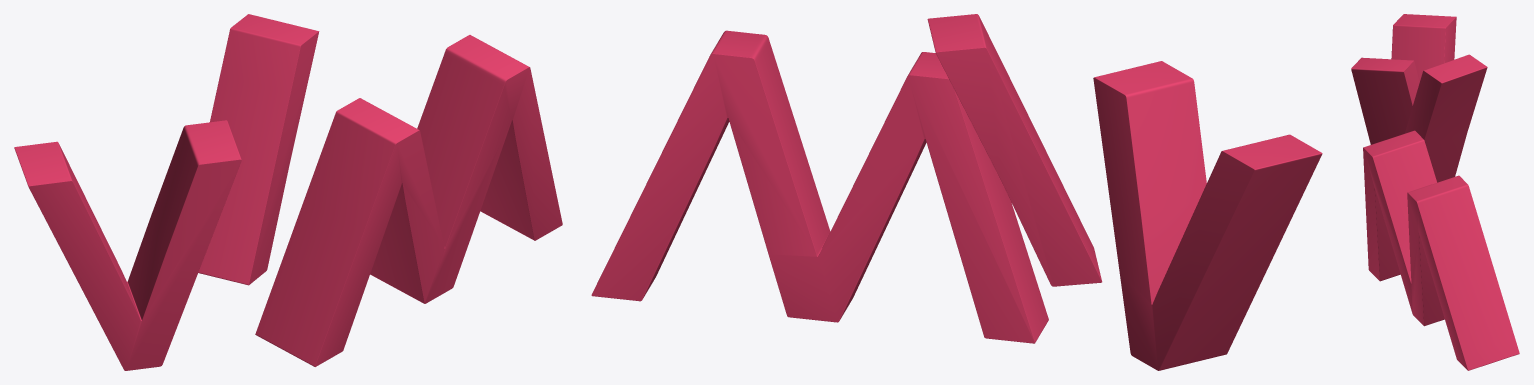
File: vim2.glb
3 views of the same model, side by side, from view 1: azimuth 30°, elevation 25°; view 2: azimuth 150°, elevation 25°; view 3: azimuth 270°, elevation 25° (orthographic). The views are drawn at different scales.
Visible parts, largest first — view 1: M, V, I; view 2: M, V, I; view 3: M, V, I.
Part boxes in pixels (box(x1,y1,x2,y2)): M: box(255, 35, 562, 366); V: box(14, 120, 241, 370); I: box(198, 14, 319, 285); M: box(591, 30, 1048, 343); V: box(1093, 61, 1322, 370); I: box(927, 14, 1102, 286); M: box(1363, 130, 1519, 370); V: box(1351, 14, 1456, 144); I: box(1404, 54, 1487, 182).
Size of the model in its own units: 28.78 by 13.87 by 10.07.
